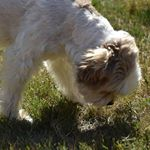puppy: (27, 1, 145, 116)
